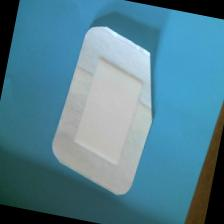Cut: (40, 17, 174, 206)
